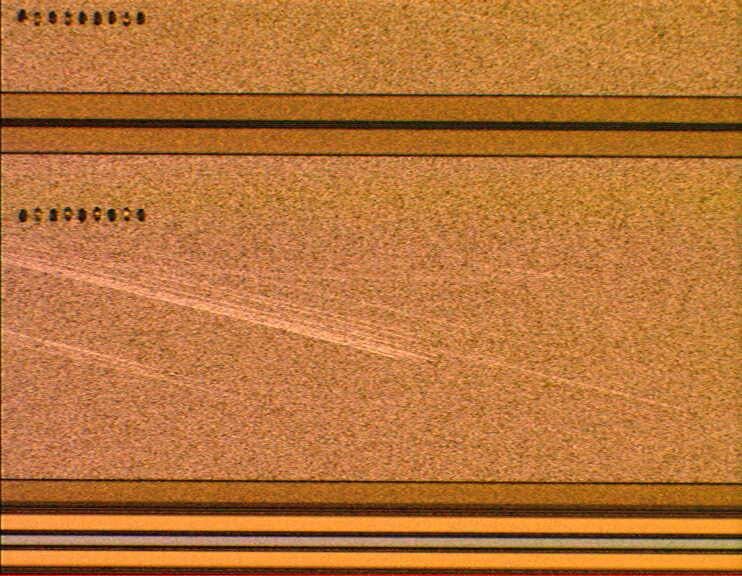SCRATCH: (1, 1, 742, 437)
